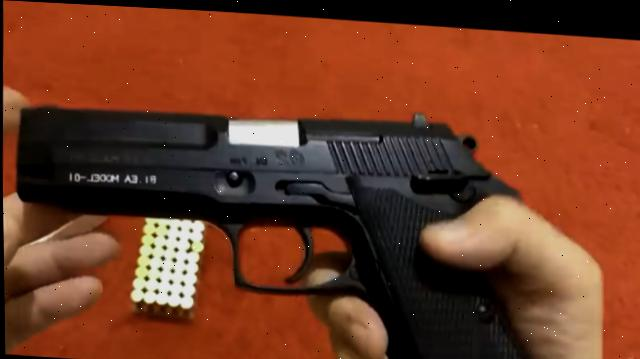pistol: (6, 96, 581, 359)
